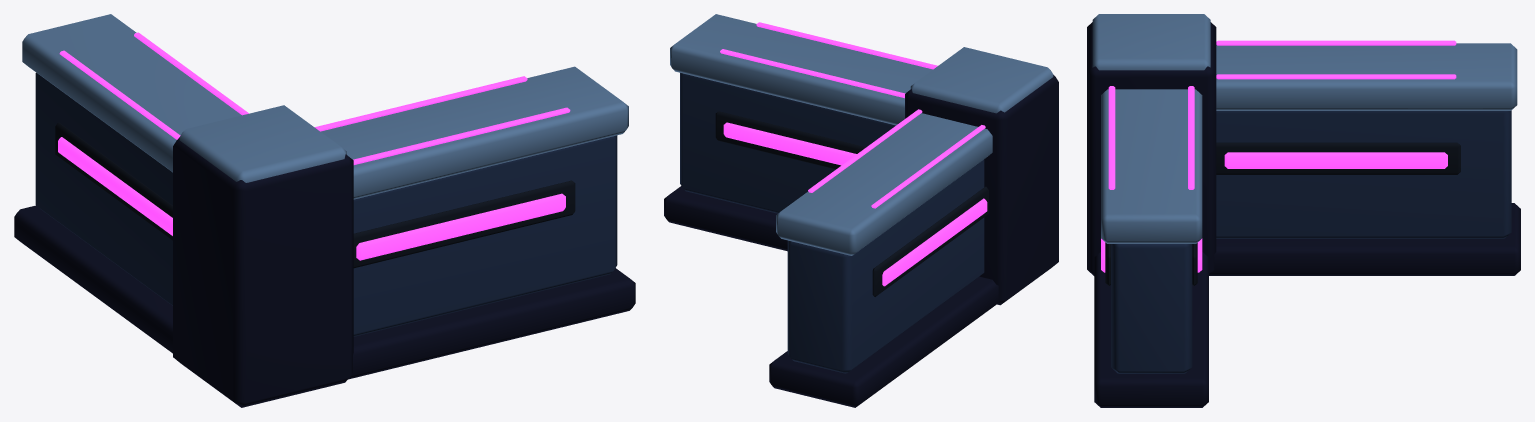
The model's file is NT_Wall_Corner_Inner_Magenta.fbx.
The picture shows the model from 3 angles, left to right: view 1: azimuth 30°, elevation 25°; view 2: azimuth 150°, elevation 25°; view 3: azimuth 270°, elevation 25°; orthographic projection. The views are drawn at different scales.
Parts seen in each view (by area): view 1: NT_Wall_Corner_Inner_Magenta__WallMesh; view 2: NT_Wall_Corner_Inner_Magenta__WallMesh; view 3: NT_Wall_Corner_Inner_Magenta__WallMesh.
Part boxes in pixels (box(x1,y1,x2,y2)): NT_Wall_Corner_Inner_Magenta__WallMesh: box(14, 14, 635, 407); NT_Wall_Corner_Inner_Magenta__WallMesh: box(664, 14, 1058, 407); NT_Wall_Corner_Inner_Magenta__WallMesh: box(1087, 14, 1520, 407).
Bounding box in the file's own units: 2.35 × 1.31 × 2.35.
